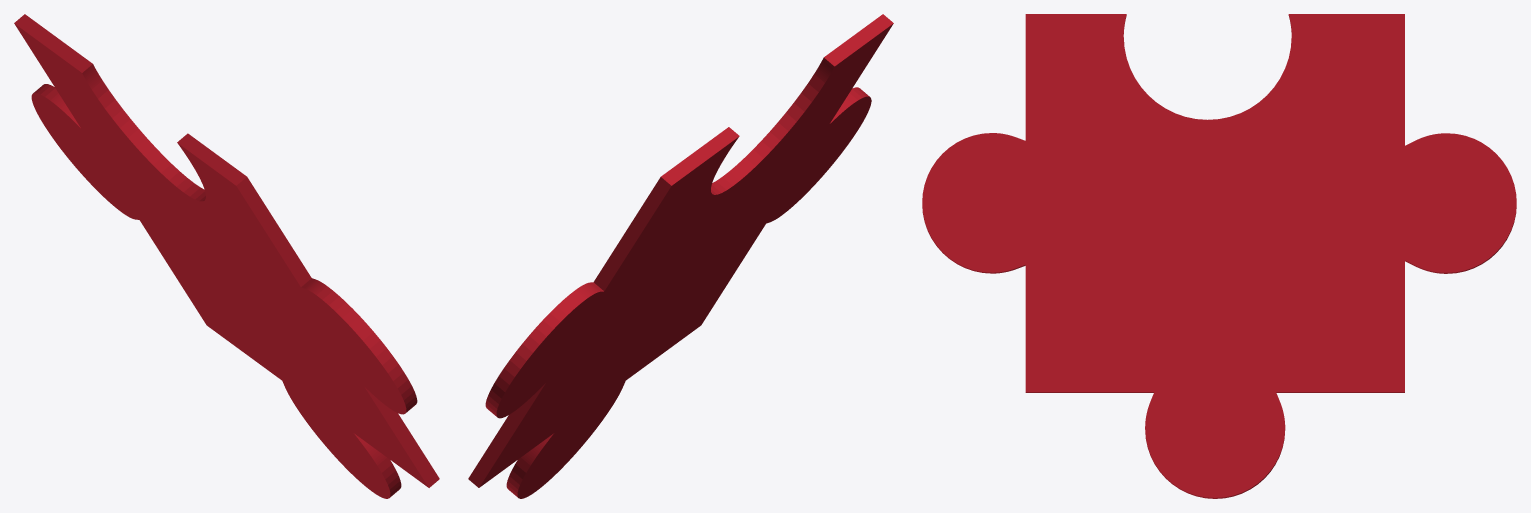
File: H-piece-red.fbx
3 renders of one model, left to right at view 1: azimuth 30°, elevation 25°; view 2: azimuth 150°, elevation 25°; view 3: azimuth 270°, elevation 25°, orthographic. The views are drawn at different scales.
Visible parts, largest first — view 1: Curve.085; view 2: Curve.085; view 3: Curve.085.
Boxes of the visible parts, left/top/right/bottom form: Curve.085: left=14, top=14, right=439, bottom=498; Curve.085: left=468, top=14, right=893, bottom=498; Curve.085: left=922, top=14, right=1516, bottom=498.
Bounding box in the file's own units: 48.9 × 82.31 × 115.
